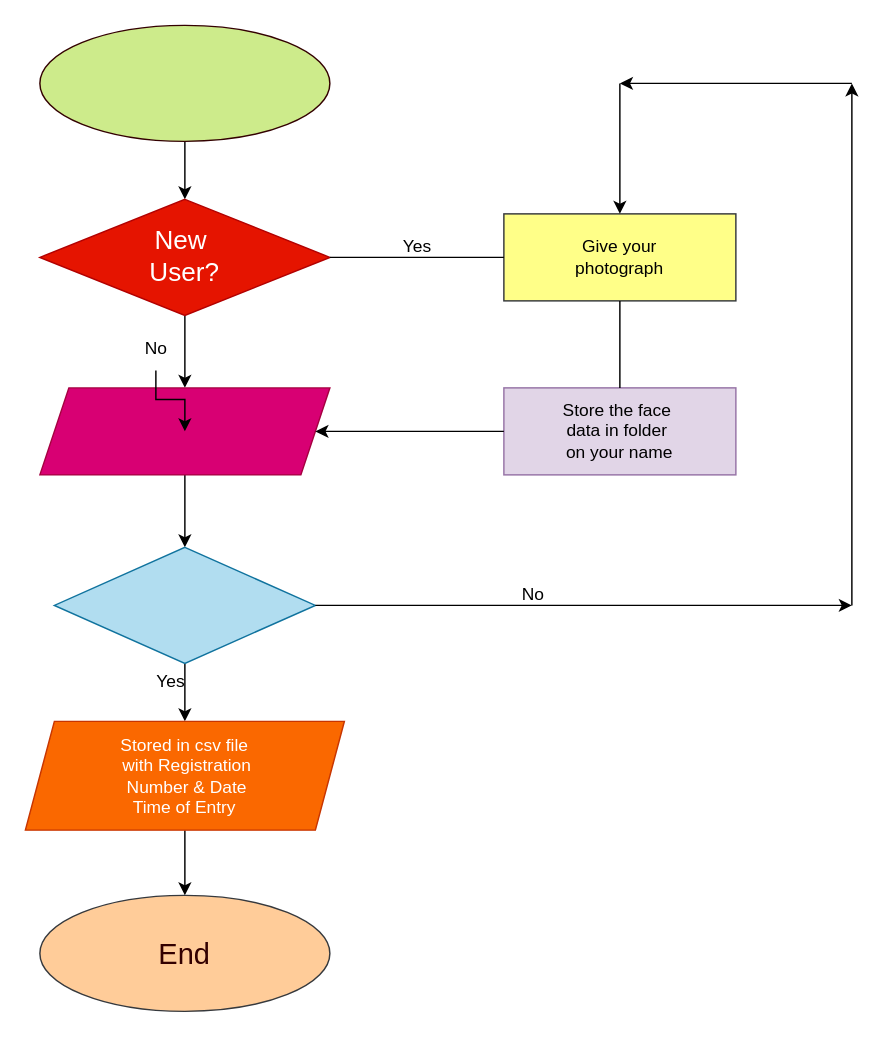
The diagram is 889 pixels wide and 1048 high, and some of its shapes have lost their labels. Here are the shapes that lost their labels. From the top down, the centre of each, then its label:
At pixel 184 82: "Start".
At pixel 184 430: "Recognize the face".
At pixel 184 604: "Face Recignized".
